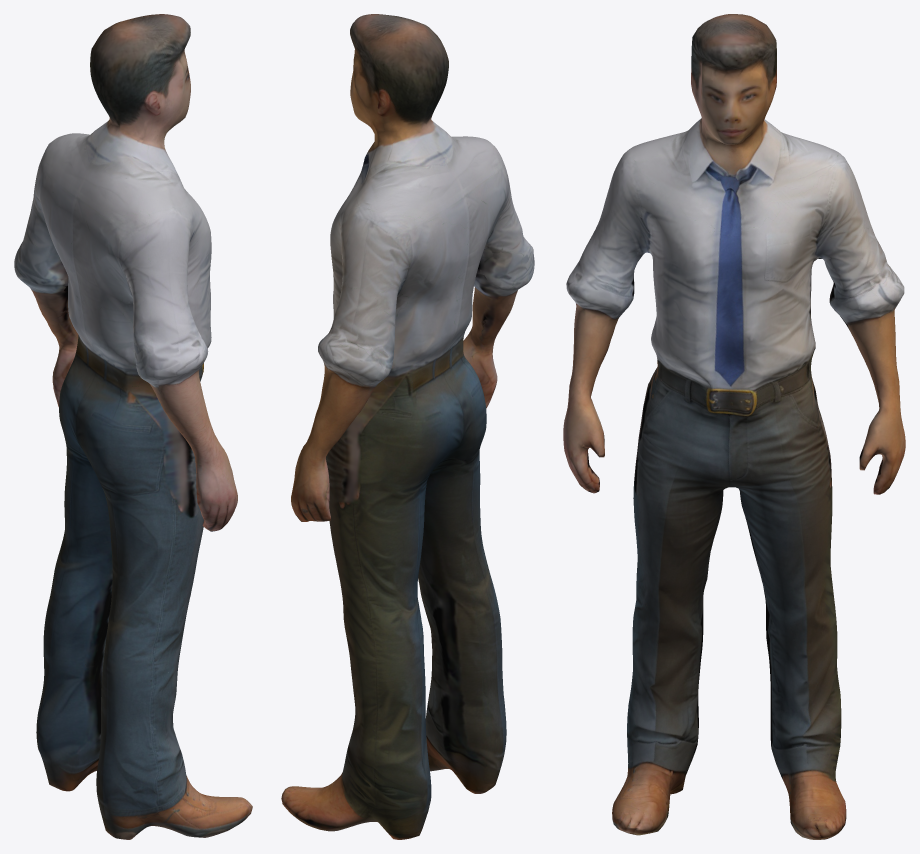
File: A_male_person_full_body_0511170051_refine.fbx
The picture shows the model from 3 angles, left to right: view 1: azimuth 30°, elevation 25°; view 2: azimuth 150°, elevation 25°; view 3: azimuth 270°, elevation 25°; orthographic projection. The views are drawn at different scales.
Parts seen in each view (by area): view 1: Mesh_0; view 2: Mesh_0; view 3: Mesh_0.
Part boxes in pixels (x1=…): Mesh_0: x1=14, y1=14, x2=252, y2=839; Mesh_0: x1=281, y1=14, x2=534, y2=839; Mesh_0: x1=563, y1=14, x2=905, y2=839.
Size of the model in its own units: 22.81 by 120 by 46.73.
1 material, 1 textured.
